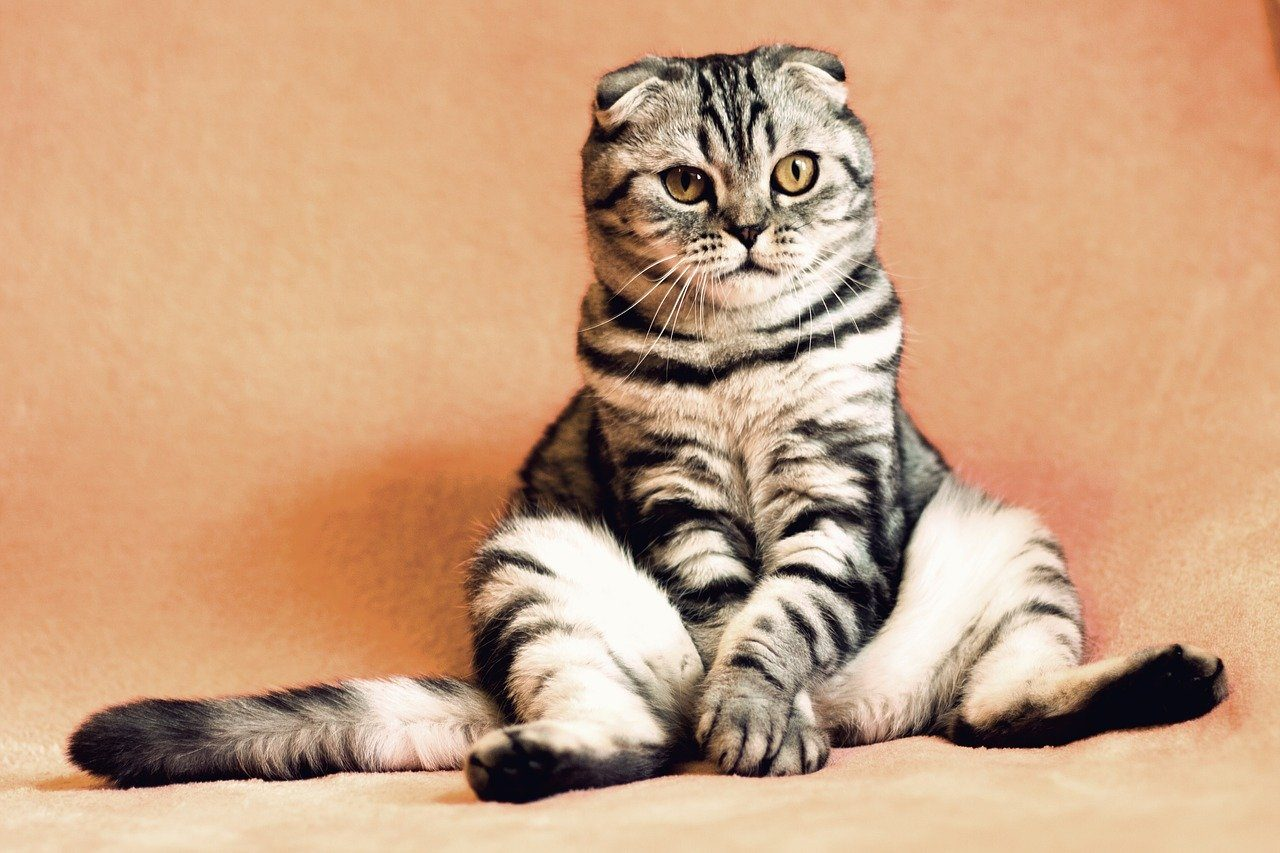cat: (451, 23, 1094, 797)
